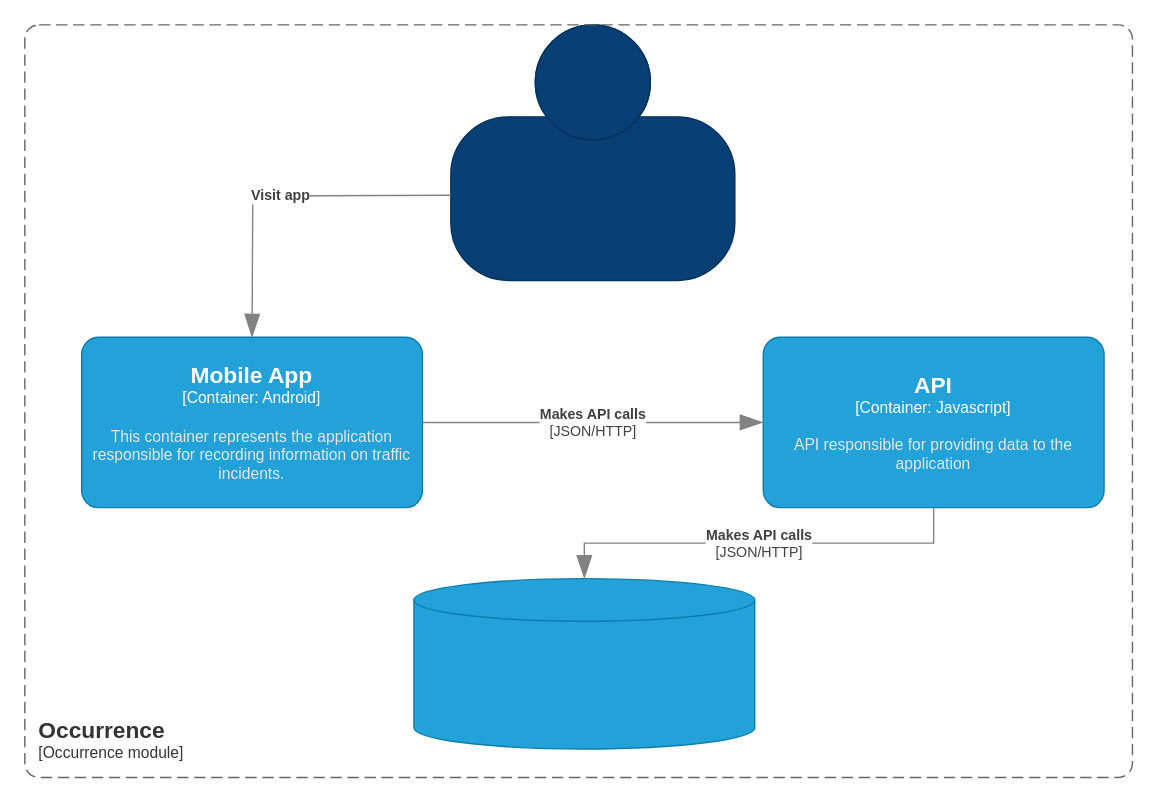
This 1157x802 diagram has some shape labels left out. Each missing label, with the centre of its shape:
DB [Container: Mysql] Application database: pixel 584 663
Traffic Agent [user] Responsible for registering information in the system: pixel 592 151
